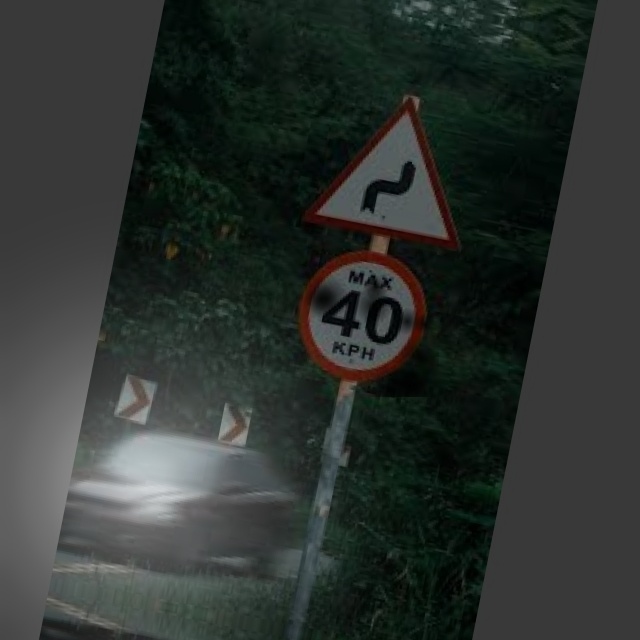Speed_Limit_40: (289, 239, 439, 397)
